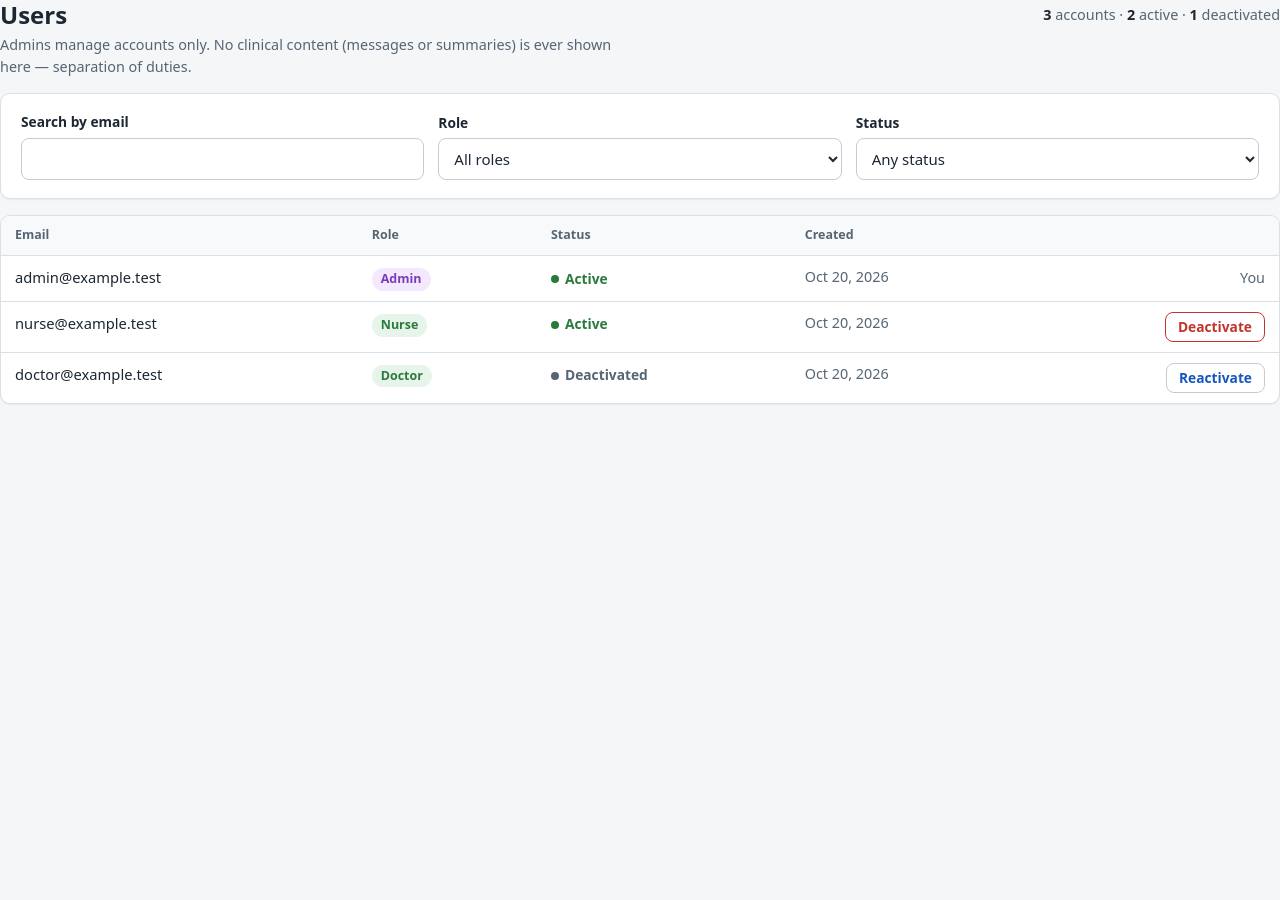
it: AdminUsers screen › explains when the user cannot be deactivated because they are in a session
The image size is (1280, 900).
Click the button "Deactivate". click: (1215, 327)
box: [1165, 312, 1265, 342]
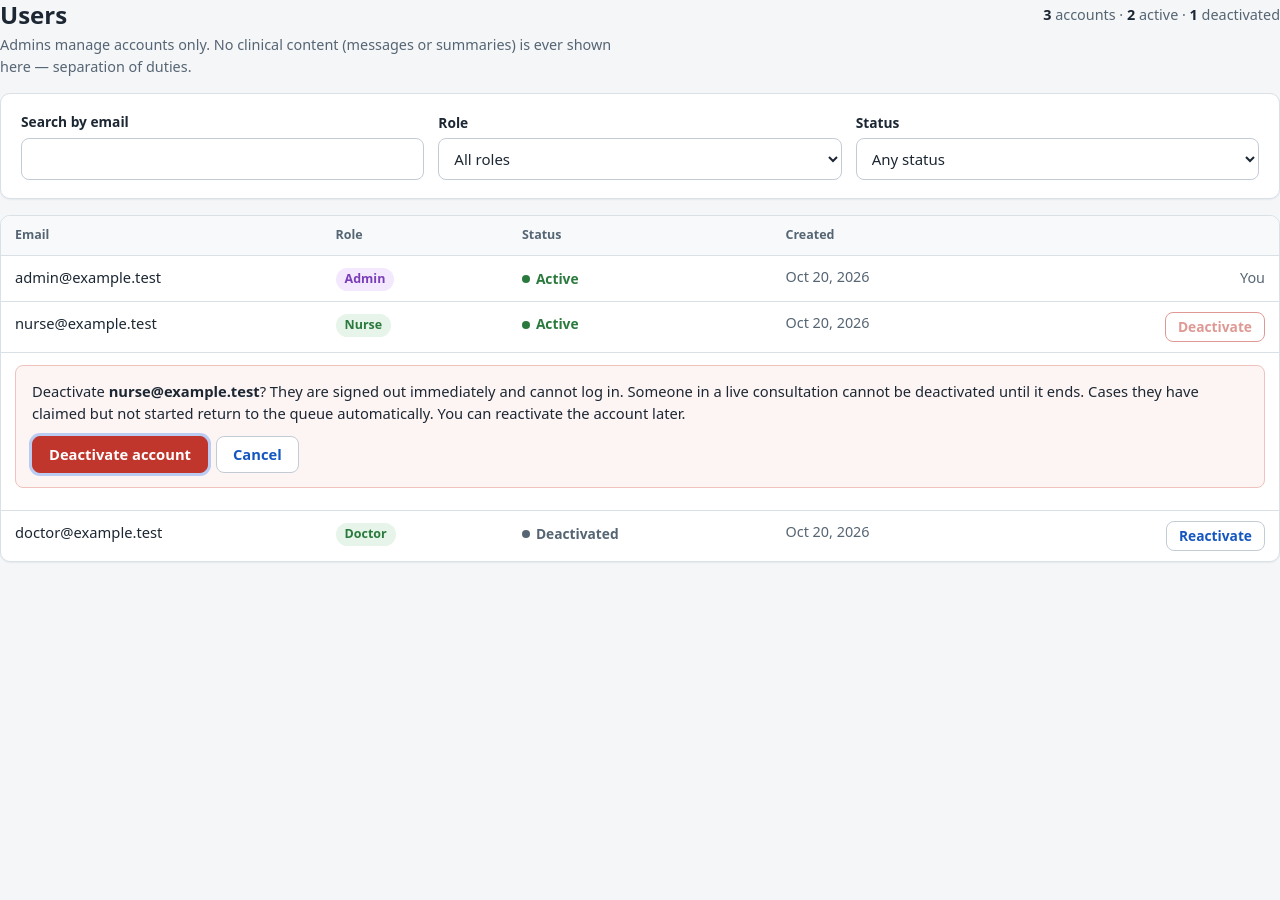
Click the button "Deactivate account". click: (120, 454)
box: [32, 436, 208, 473]
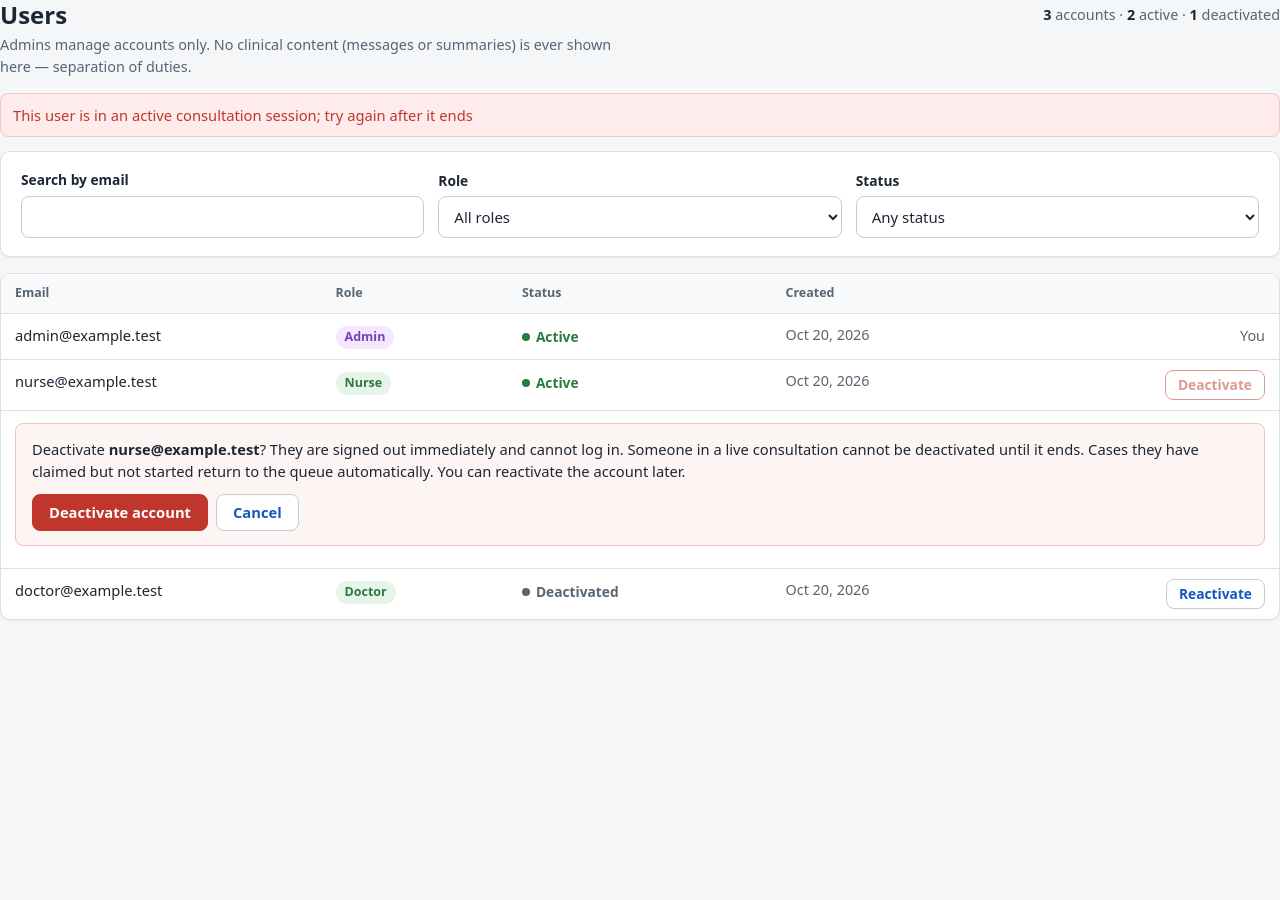
Expected: the text "This user is in an active consultation session; try again after it ends" is shown, [0, 93, 1279, 137]
